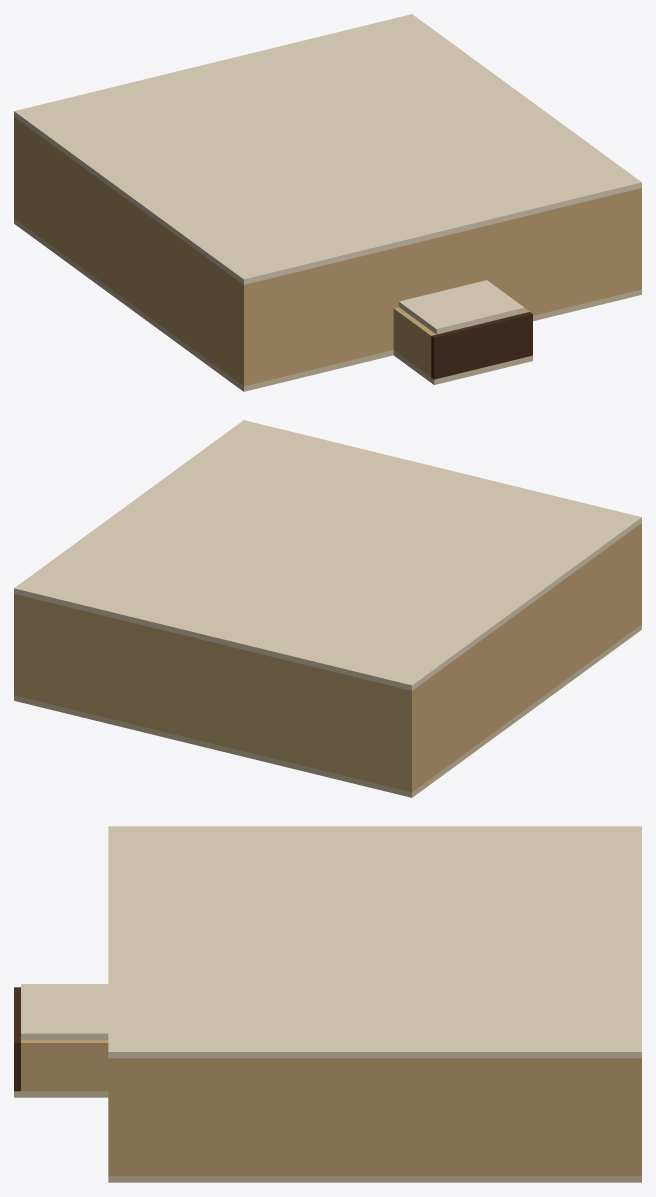
File: hall_258.glb
3 views of the same model, one above another, from view 1: azimuth 30°, elevation 25°; view 2: azimuth 150°, elevation 25°; view 3: azimuth 270°, elevation 25° (orthographic). The views are drawn at different scales.
Parts seen in each view (by area): view 1: hall_258 ceiling, hall_258 wall, hall_258 wood, hall_258 floor; view 2: hall_258 ceiling, hall_258 wall, hall_258 floor; view 3: hall_258 ceiling, hall_258 wall, hall_258 floor, hall_258 wood.
Part boxes in pixels (x1,y1,x2,y2): hall_258 ceiling: (14,14,641,334); hall_258 wall: (14,117,641,386); hall_258 wood: (431,312,532,379); hall_258 floor: (14,218,641,391); hall_258 ceiling: (14,420,641,690); hall_258 wall: (14,523,641,792); hall_258 floor: (14,624,641,797); hall_258 ceiling: (21,826,641,1058); hall_258 wall: (21,1040,641,1175); hall_258 floor: (14,1091,641,1182); hall_258 wood: (14,987,20,1091).
Size of what is drawn, in the model's own units: 45.2 by 12.2 by 53.2.
